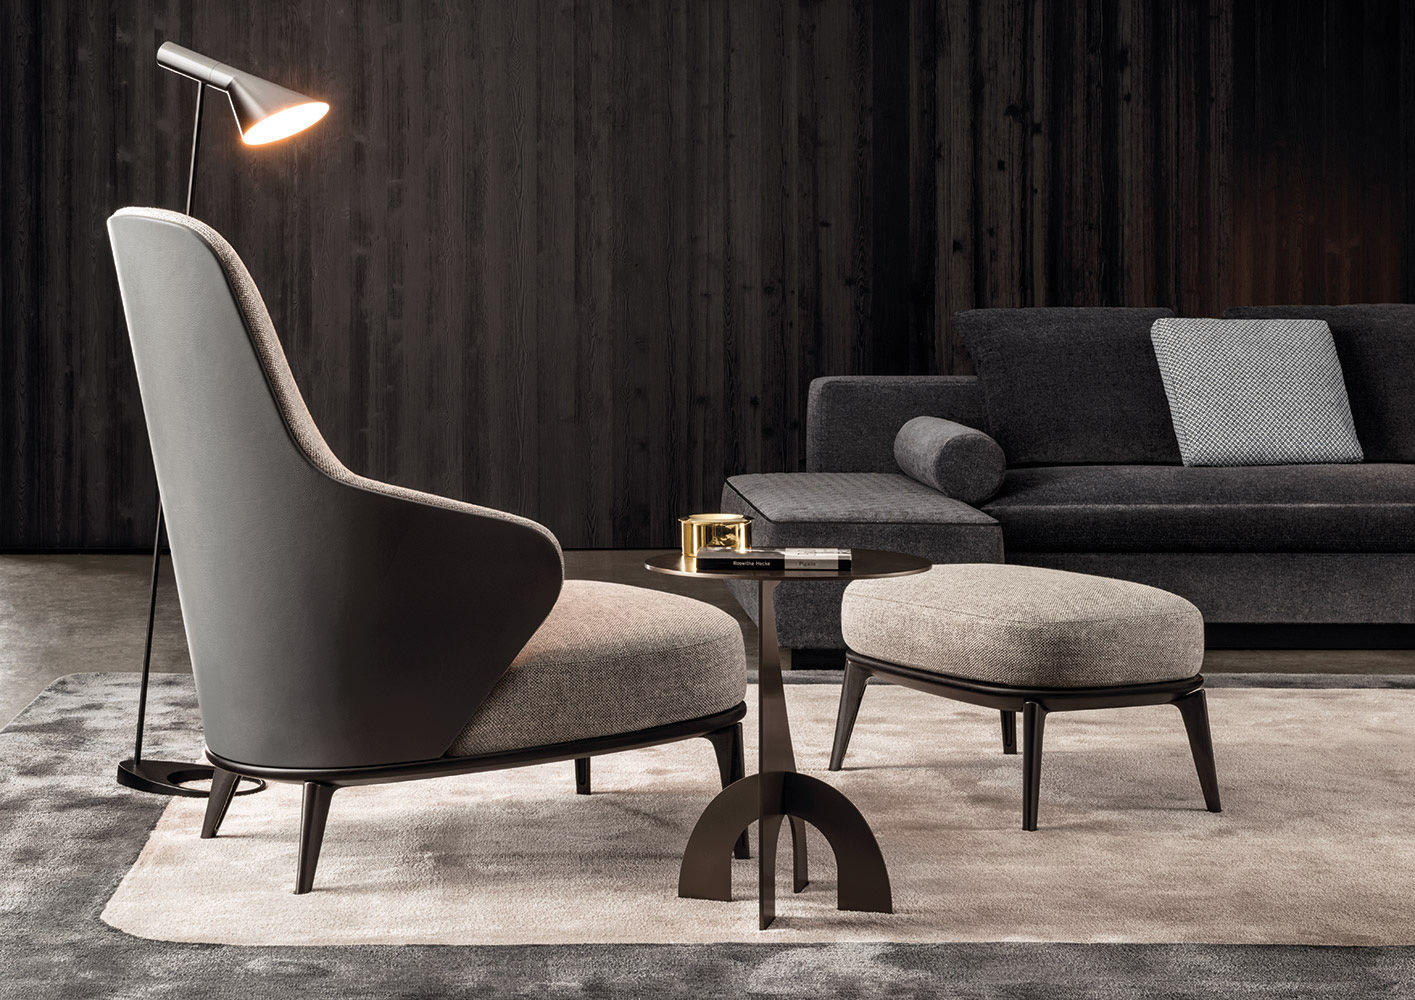chairs: (95, 199, 764, 890), (796, 292, 1415, 631), (833, 555, 1229, 826), (714, 453, 1017, 668)
